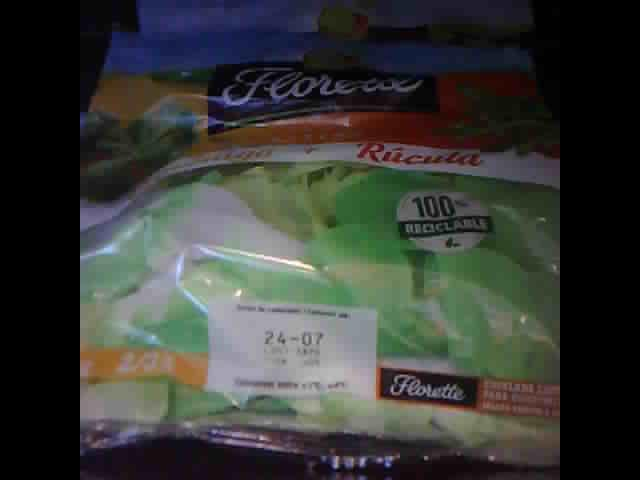florette: (80, 25, 558, 462), (133, 2, 539, 45)
